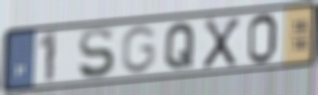0: (246, 12, 281, 65)
1: (37, 30, 58, 85)
G: (119, 23, 159, 75)
Q: (163, 21, 198, 71)
S: (76, 26, 117, 81)
X: (200, 16, 242, 71)
